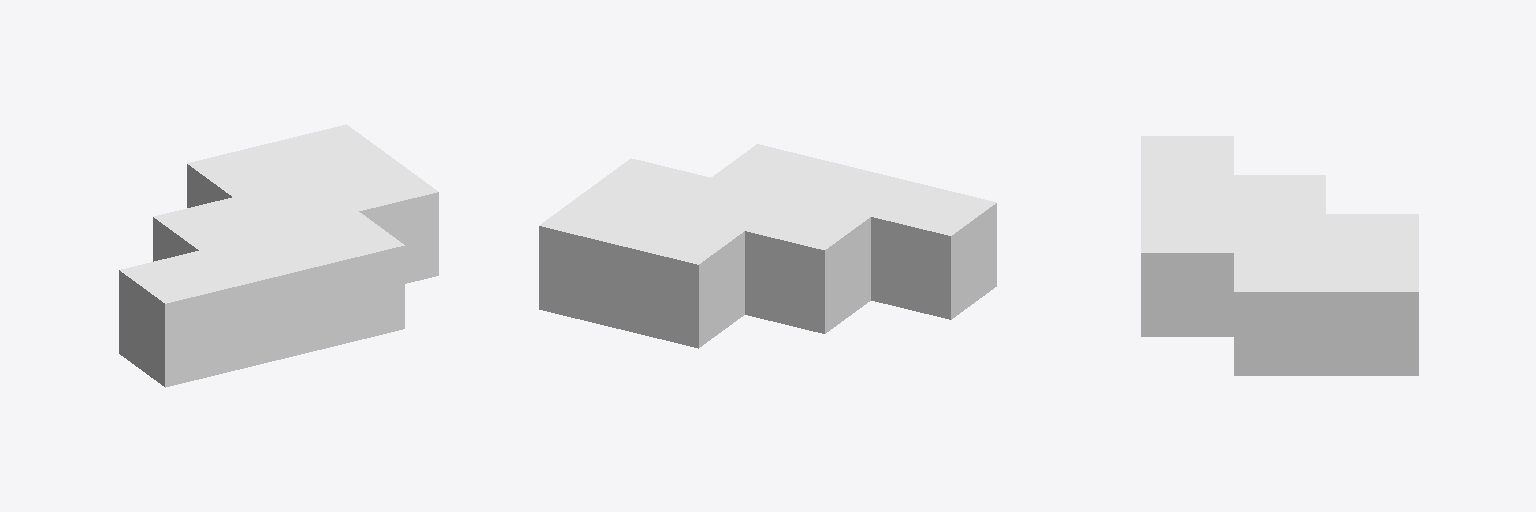
File: PhoenixFeather.obj
3 renders of one model, left to right at view 1: azimuth 30°, elevation 25°; view 2: azimuth 150°, elevation 25°; view 3: azimuth 270°, elevation 25°, orthographic.
Parts seen in each view (by area): view 1: object 1; view 2: object 1; view 3: object 1.
Part boxes in pixels (x1,y1,x2,y2): object 1: (119, 124, 438, 387); object 1: (539, 144, 996, 348); object 1: (1141, 136, 1418, 375).
Size of the model in its own units: 0.4 by 0.1 by 0.3.